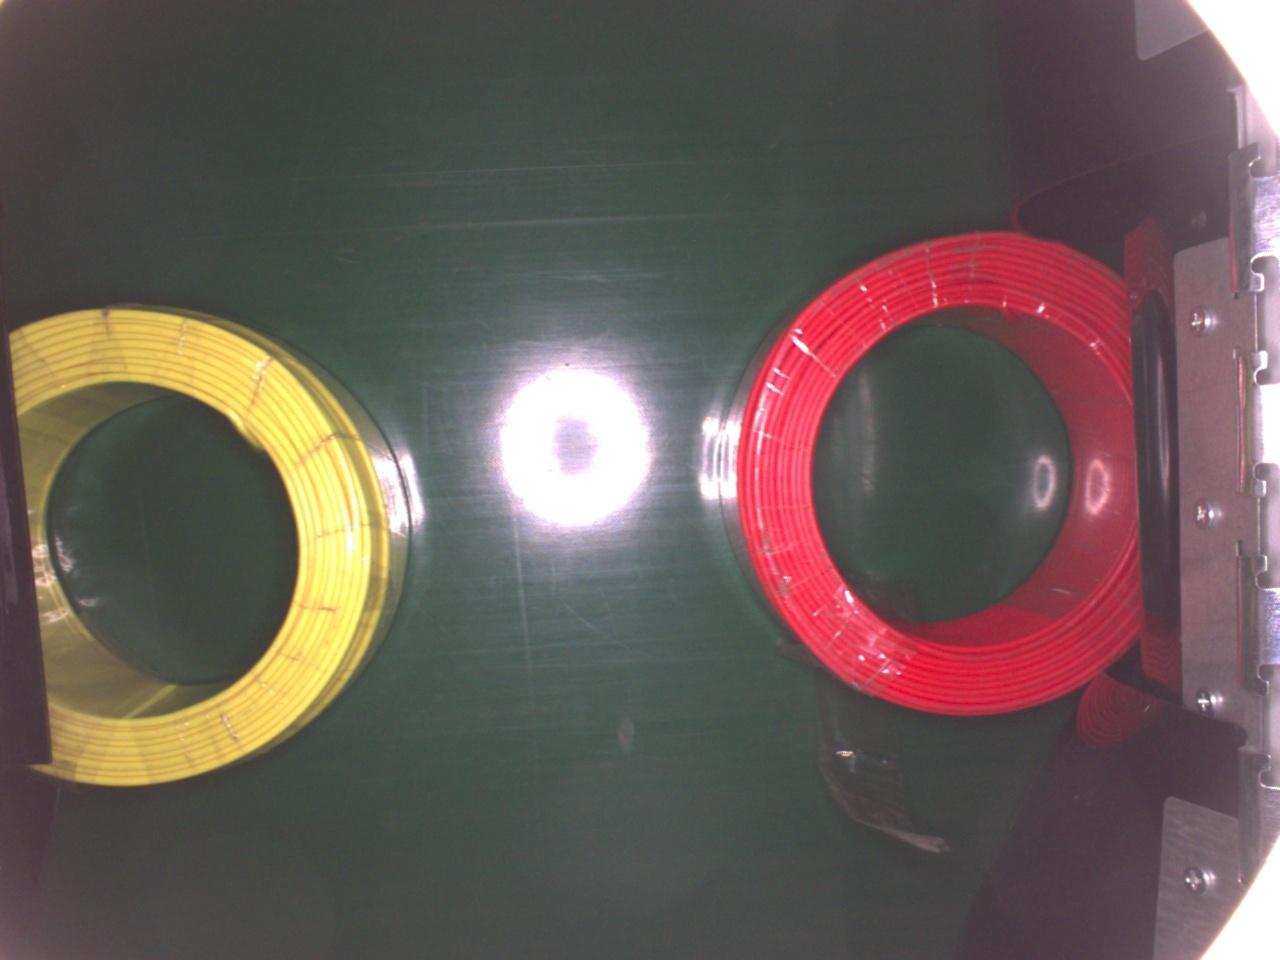red: (720, 228, 1144, 716)
yellow: (6, 308, 412, 787)
